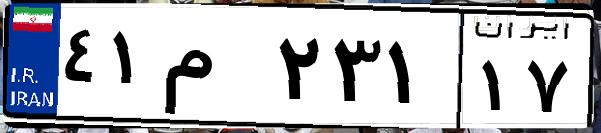1: (385, 28, 445, 110), (475, 38, 525, 113), (110, 28, 158, 98)
2: (270, 28, 330, 110)
3: (330, 28, 385, 110)
4: (57, 26, 110, 100)
7: (525, 38, 570, 115)
م: (158, 20, 270, 120)
